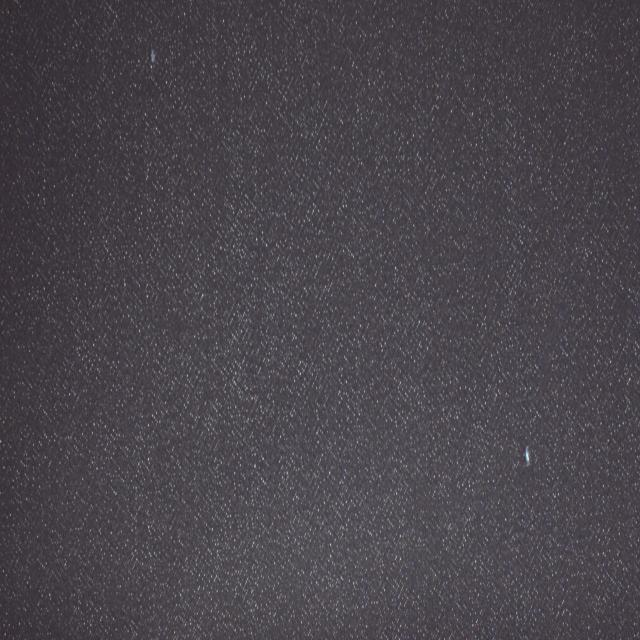Knot: (522, 446, 533, 468)
